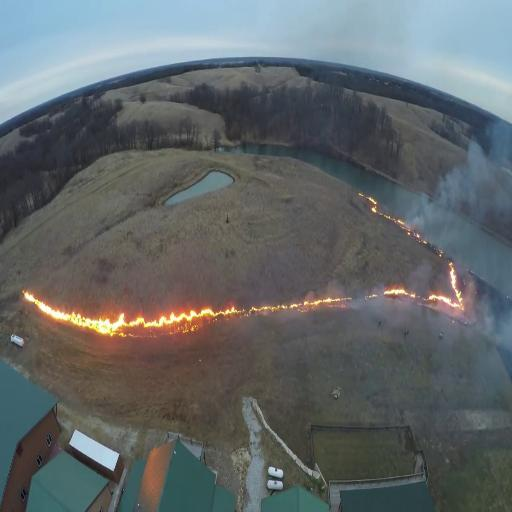fire: (20, 193, 466, 341)
smoke: (329, 283, 512, 358), (411, 128, 509, 249)
